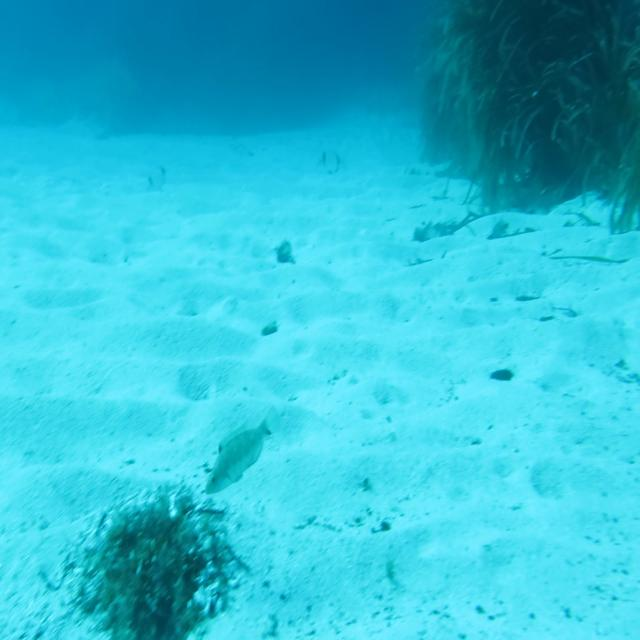BN: (204, 403, 281, 495)
core_nest: (132, 519, 185, 555)
nest: (70, 478, 243, 640)
other_fish: (142, 157, 170, 196), (314, 147, 345, 178)
vegetation: (412, 0, 640, 273), (490, 359, 511, 388), (276, 242, 296, 264), (261, 318, 280, 339)
